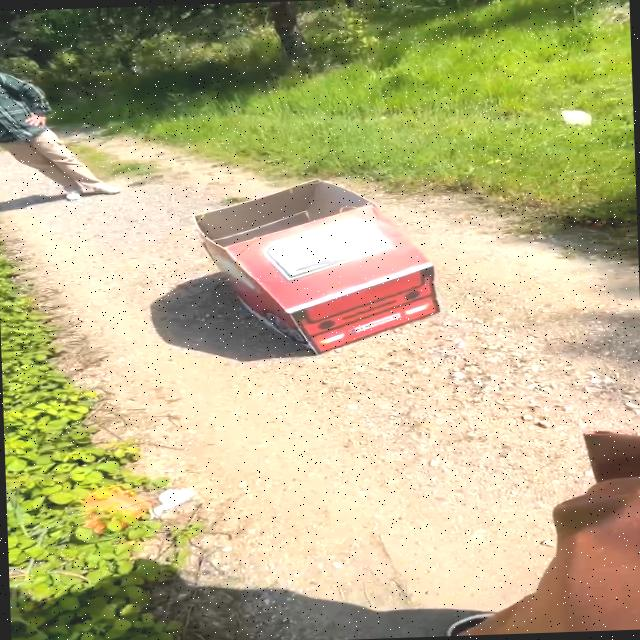red_car: (157, 166, 469, 368)
